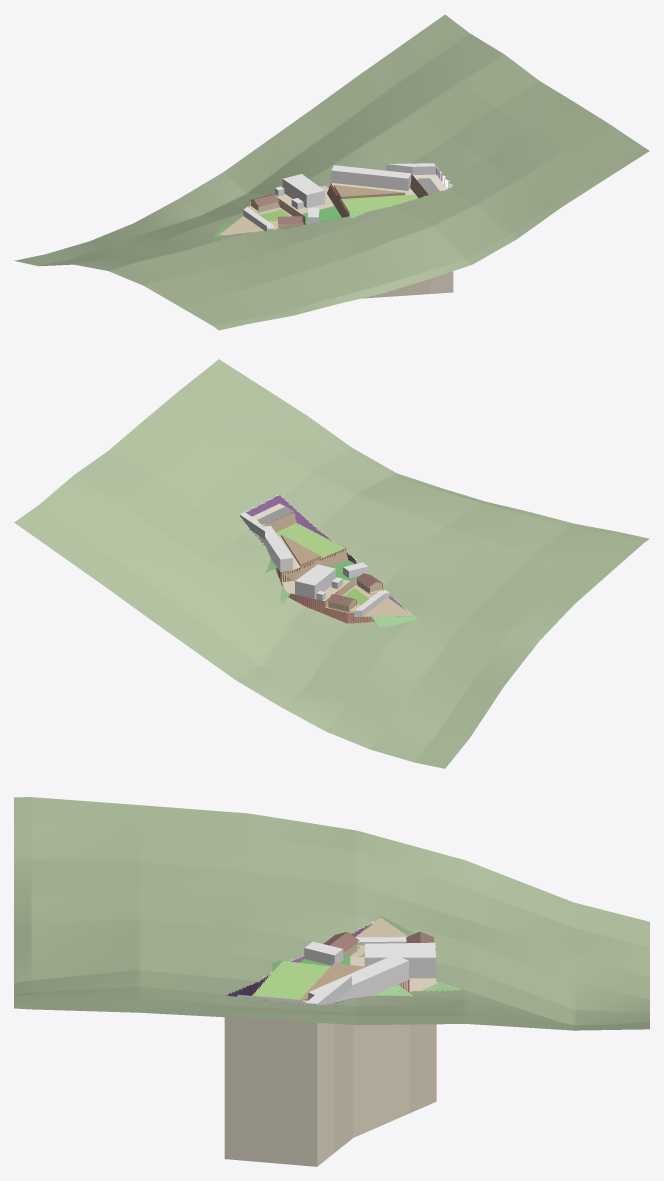
The model's file is nava_ranch_master.glb.
3 renders of one model, top to bottom at view 1: azimuth 30°, elevation 25°; view 2: azimuth 150°, elevation 25°; view 3: azimuth 270°, elevation 25°, orthographic. The views are drawn at different scales.
Parts seen in each view (by area): view 1: Terrain_outside, Mass_Multi_barn, Mass_Home, Mass_Pasture, Terrace_2, Terrace_1, Mass_Corral, Mass_Reception; view 2: Terrain_outside, Mass_Pasture, Mass_Home, Mass_Multi_barn, Retaining_N, Retaining_A70, Face_T2_T3, Terrace_5; view 3: Terrain_outside, Terrace_1, Terrace_2, Terrace_3, Mass_Multi_barn, Mass_Pasture, Mass_Home, Mass_Greenhouse, Mass_Reception, Slopes_Bplus_neighbour, Mass_Corral, Terrace_5.
Boxes of the visible parts, left/top/right/bottom form: Terrain_outside: left=14, top=14, right=649, bottom=330; Mass_Multi_barn: left=331, top=165, right=411, bottom=190; Mass_Home: left=282, top=174, right=324, bottom=208; Mass_Pasture: left=341, top=194, right=417, bottom=212; Terrace_2: left=331, top=183, right=430, bottom=298; Terrace_1: left=413, top=174, right=453, bottom=293; Mass_Corral: left=334, top=185, right=405, bottom=198; Mass_Reception: left=386, top=163, right=436, bottom=174; Terrain_outside: left=14, top=359, right=649, bottom=768; Mass_Pasture: left=276, top=523, right=345, bottom=557; Mass_Home: left=295, top=564, right=335, bottom=598; Mass_Multi_barn: left=259, top=525, right=292, bottom=571; Retaining_N: left=245, top=495, right=407, bottom=611; Retaining_A70: left=271, top=512, right=370, bottom=623; Face_T2_T3: left=281, top=548, right=348, bottom=581; Terrace_5: left=354, top=599, right=413, bottom=623; Terrain_outside: left=14, top=797, right=649, bottom=1030; Terrace_1: left=224, top=1000, right=334, bottom=1166; Terrace_2: left=334, top=980, right=409, bottom=1152; Terrace_3: left=350, top=957, right=436, bottom=1113; Mass_Multi_barn: left=308, top=955, right=408, bottom=1002; Mass_Pasture: left=252, top=961, right=330, bottom=999; Mass_Home: left=364, top=942, right=436, bottom=978; Mass_Greenhouse: left=304, top=941, right=343, bottom=965; Mass_Reception: left=305, top=976, right=351, bottom=1005; Slopes_Bplus_neighbour: left=271, top=916, right=460, bottom=996; Mass_Corral: left=300, top=963, right=365, bottom=1000; Terrace_5: left=355, top=917, right=407, bottom=937.
Bounding box in the file's own units: 220 × 77.95 × 181.
